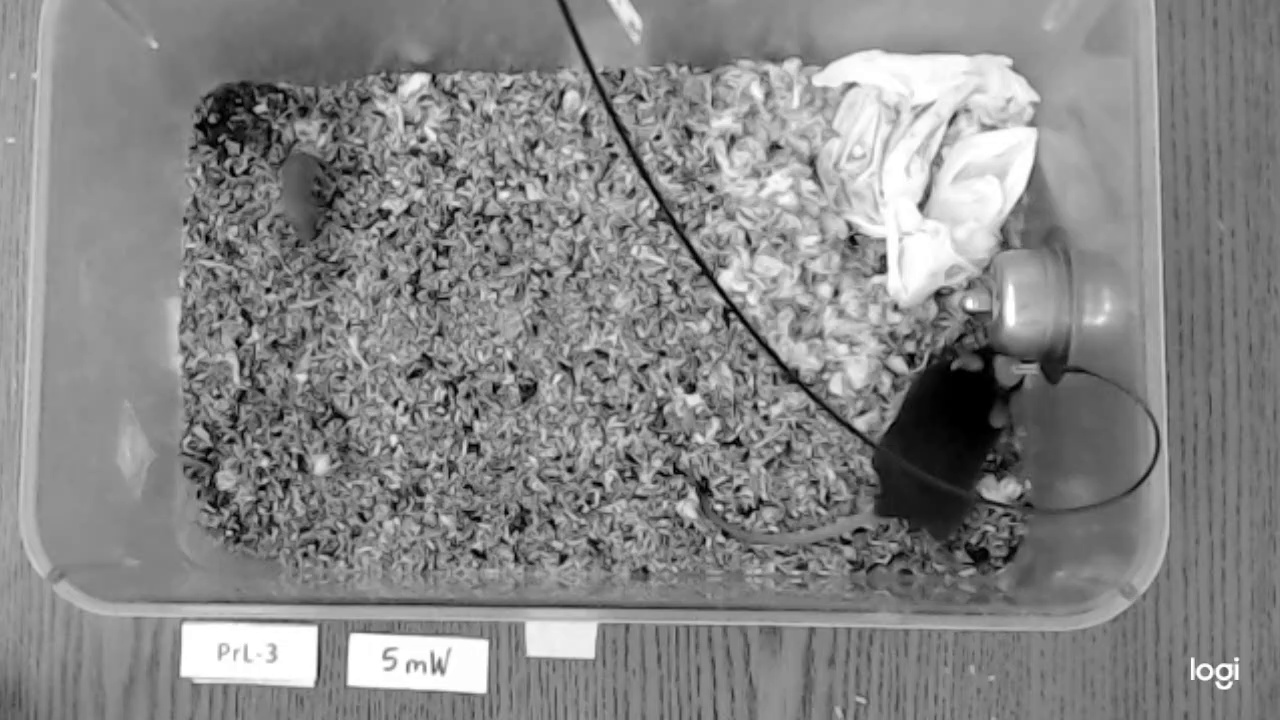child-mice: (277, 151, 331, 240)
